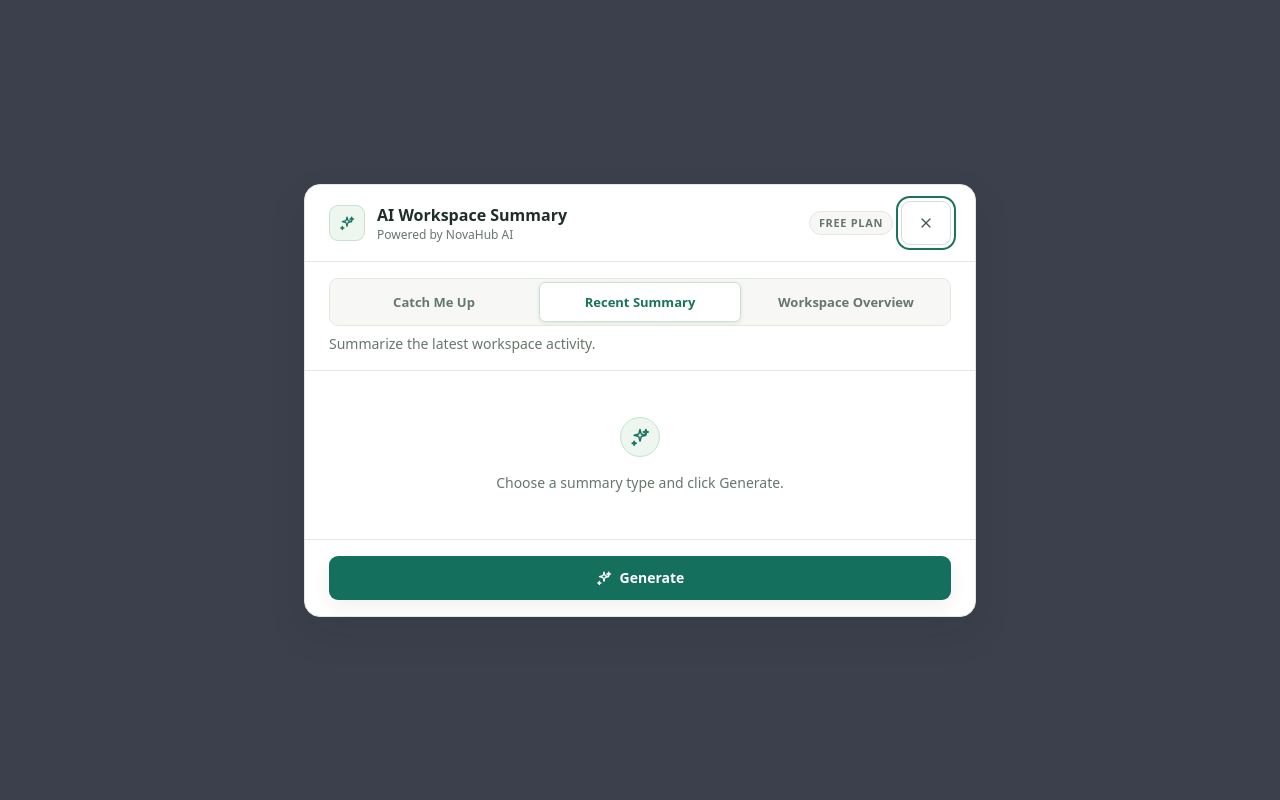
Test: AiSummaryDialog — error handling › 14. 429 renders friendly rate-limit message
Click the button "Generate": (640, 578) [329,556,951,600]
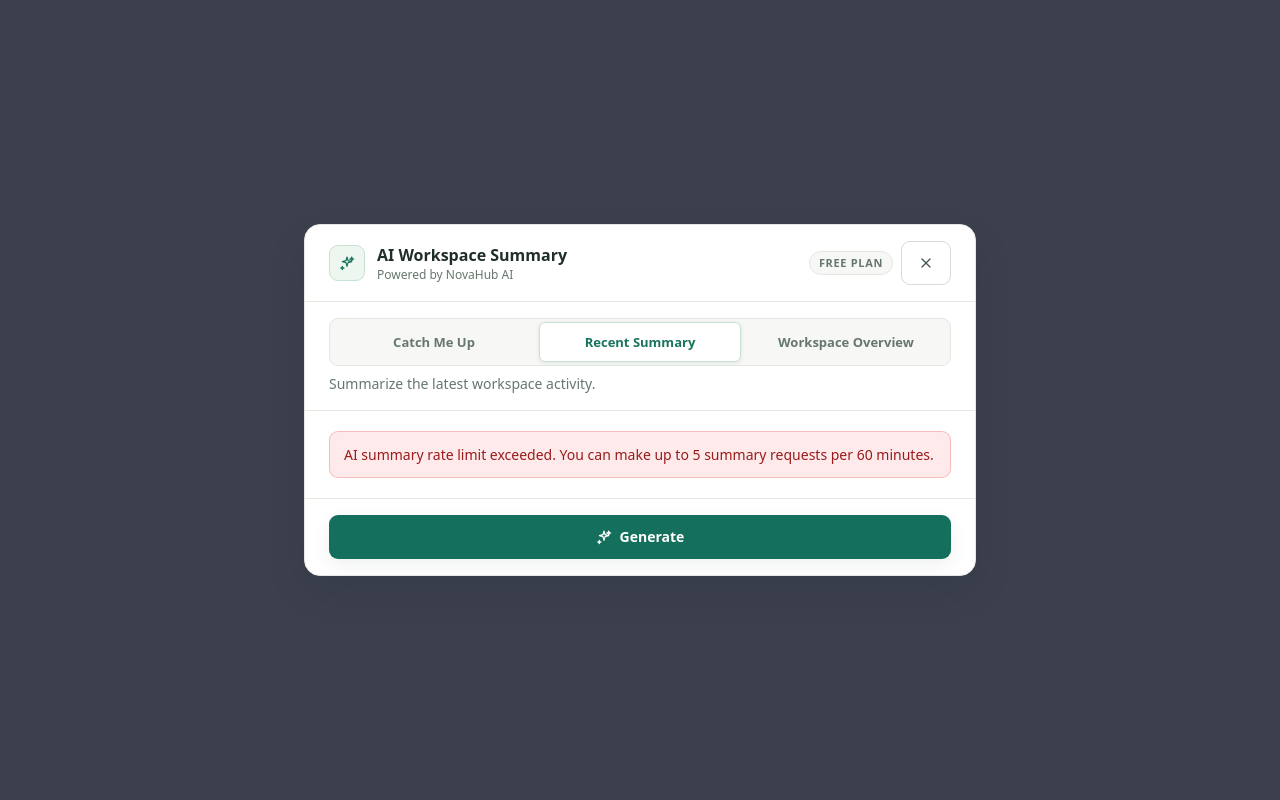
Expected: the text "rate limit exceeded" is shown, [344,445,934,464]
